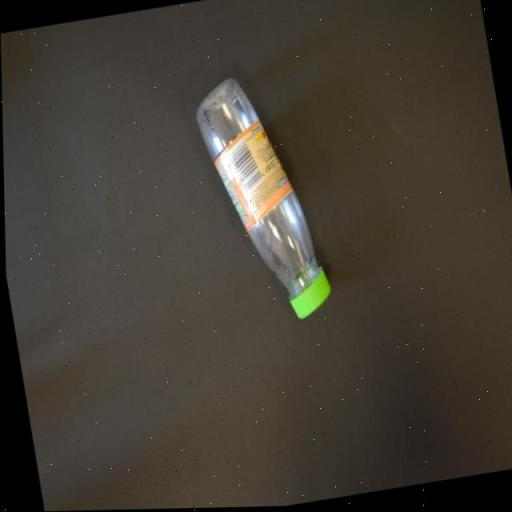plastic: (189, 67, 337, 335)
